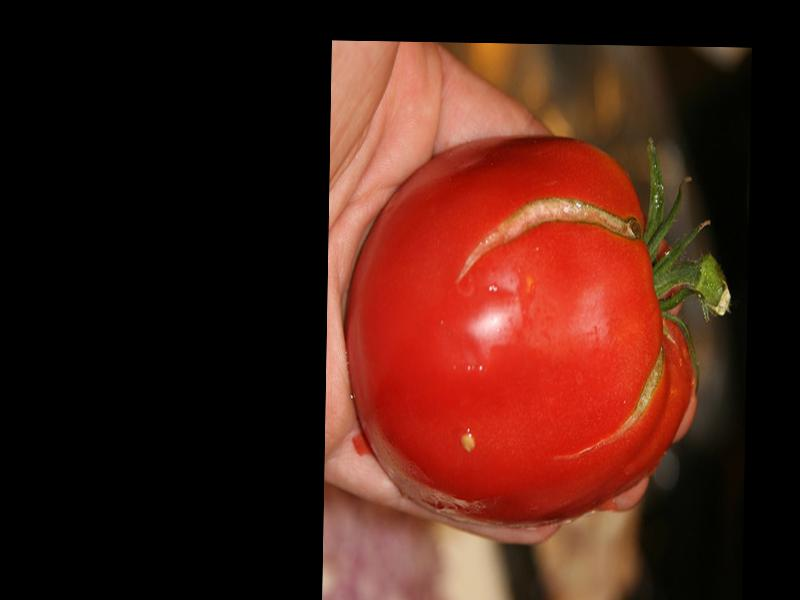Tomato: (342, 138, 696, 528)
